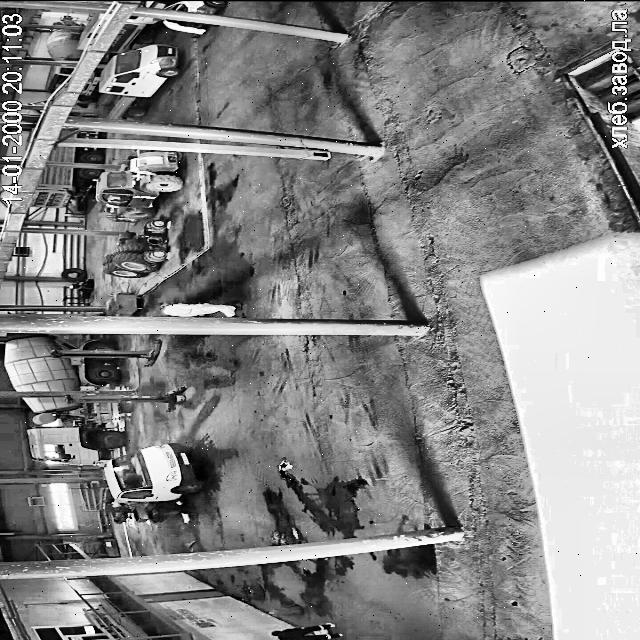car lift: (52, 340, 161, 366), (67, 387, 185, 411)
mechanic: (270, 623, 340, 640), (158, 303, 241, 316), (163, 20, 207, 36)
tractor: (96, 151, 182, 221), (103, 220, 165, 278)
truck: (102, 444, 202, 522), (24, 396, 124, 464), (4, 334, 117, 392), (100, 44, 180, 119), (29, 166, 101, 207), (108, 18, 153, 52), (46, 28, 83, 60), (48, 146, 102, 163), (78, 13, 100, 48), (45, 65, 73, 91), (77, 73, 99, 104), (53, 19, 76, 26), (78, 132, 97, 140), (62, 130, 69, 136)
